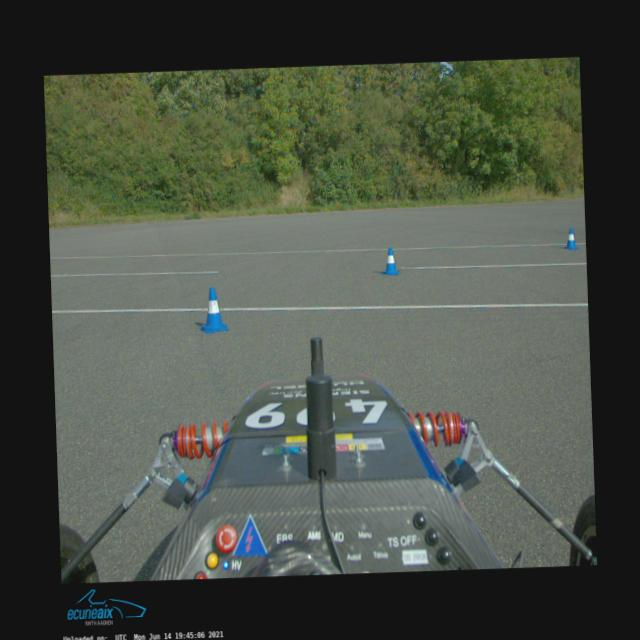blue_cone: (199, 286, 229, 332), (380, 247, 400, 275), (563, 228, 578, 248)
